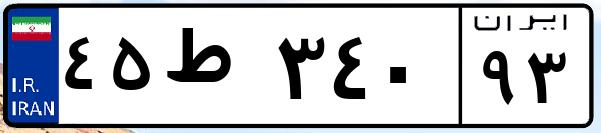0: (385, 28, 445, 110)
3: (270, 28, 330, 110), (525, 38, 570, 115)
4: (330, 28, 385, 110), (57, 26, 110, 100)
5: (110, 28, 158, 98)
9: (475, 38, 525, 113)
ط: (158, 20, 270, 120)
